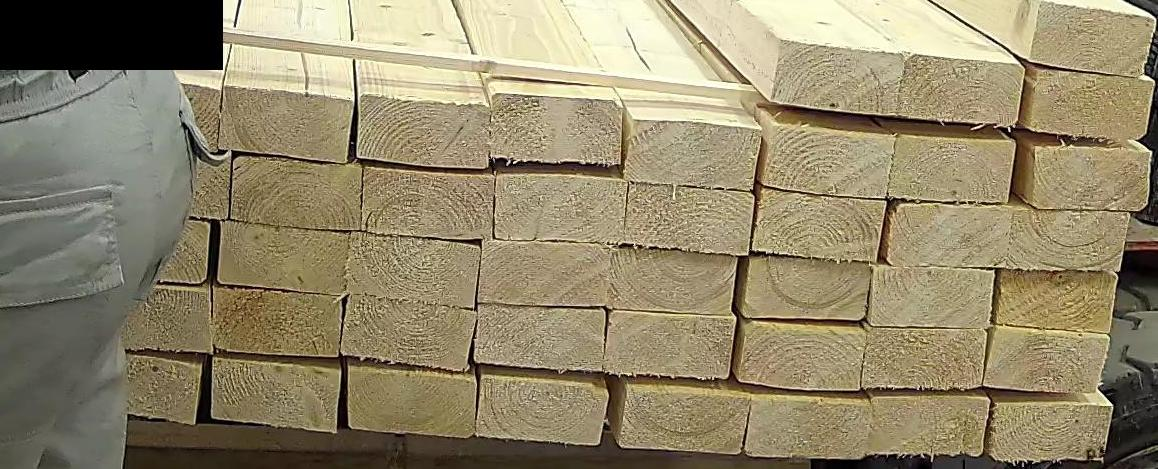Wood-Plank: (67, 144, 224, 221), (52, 347, 202, 424), (73, 205, 210, 287), (217, 83, 353, 162), (65, 280, 212, 352), (753, 184, 887, 262), (342, 294, 476, 370), (347, 232, 480, 308), (82, 77, 222, 148), (230, 155, 362, 230), (763, 123, 894, 198), (217, 220, 349, 293), (362, 165, 492, 239), (733, 320, 868, 391), (496, 170, 628, 242), (211, 358, 338, 432), (772, 42, 904, 113), (627, 118, 759, 189), (476, 377, 606, 448), (604, 310, 737, 379), (358, 97, 489, 167), (212, 286, 341, 357), (626, 184, 755, 255), (493, 93, 621, 164), (898, 54, 1021, 127), (1030, 1, 1153, 74), (480, 239, 611, 307), (348, 366, 473, 437), (474, 304, 606, 371), (882, 200, 1014, 267), (607, 247, 737, 314), (1032, 67, 1151, 140), (738, 255, 873, 319), (985, 325, 1111, 392), (625, 387, 747, 456), (868, 263, 996, 328), (746, 394, 872, 459), (863, 325, 988, 390), (891, 136, 1013, 202), (1005, 210, 1133, 272), (995, 269, 1119, 332), (869, 393, 992, 455), (1031, 148, 1145, 208), (1032, 148, 1149, 206), (992, 403, 1105, 462)
